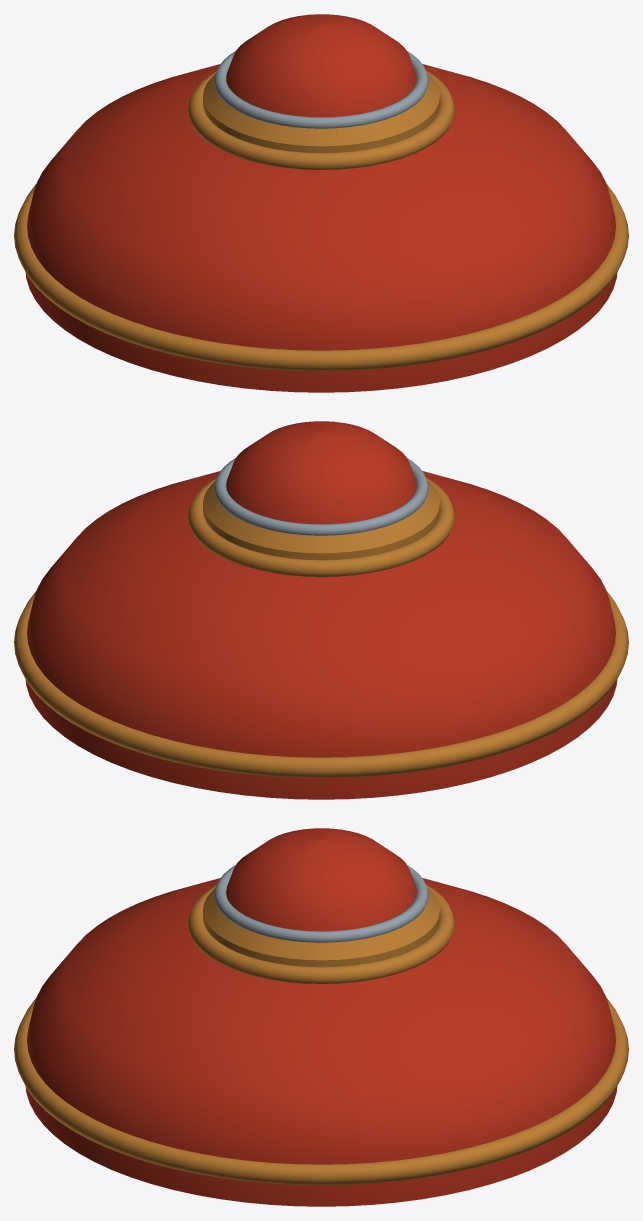
The model's file is bumper-cap.dae.
The picture shows the model from 3 angles, top to bottom: view 1: azimuth 30°, elevation 25°; view 2: azimuth 150°, elevation 25°; view 3: azimuth 270°, elevation 25°; orthographic projection.
Parts seen in each view (by area): view 1: cap_art, accent, metal; view 2: cap_art, accent, metal; view 3: cap_art, accent, metal.
Part boxes in pixels (x1=…): cap_art: x1=25, y1=14, x2=617, y2=392; accent: x1=14, y1=70, x2=628, y2=371; metal: x1=214, y1=51, x2=428, y2=128; cap_art: x1=25, y1=421, x2=617, y2=799; accent: x1=14, y1=477, x2=628, y2=778; metal: x1=214, y1=458, x2=428, y2=535; cap_art: x1=25, y1=828, x2=617, y2=1206; accent: x1=14, y1=884, x2=628, y2=1185; metal: x1=214, y1=865, x2=428, y2=942.
Size of the model in its own units: 1.66 by 0.72 by 1.66.
